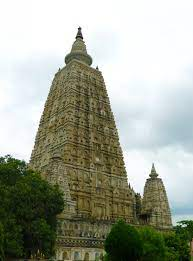Temple: (18, 25, 143, 230), (131, 143, 174, 243)
